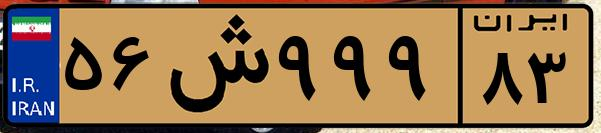3: (525, 38, 570, 115)
5: (57, 26, 110, 100)
6: (110, 28, 158, 98)
8: (475, 38, 525, 113)
9: (270, 28, 330, 110), (385, 28, 445, 110), (330, 28, 385, 110)
ش: (158, 12, 270, 120)
